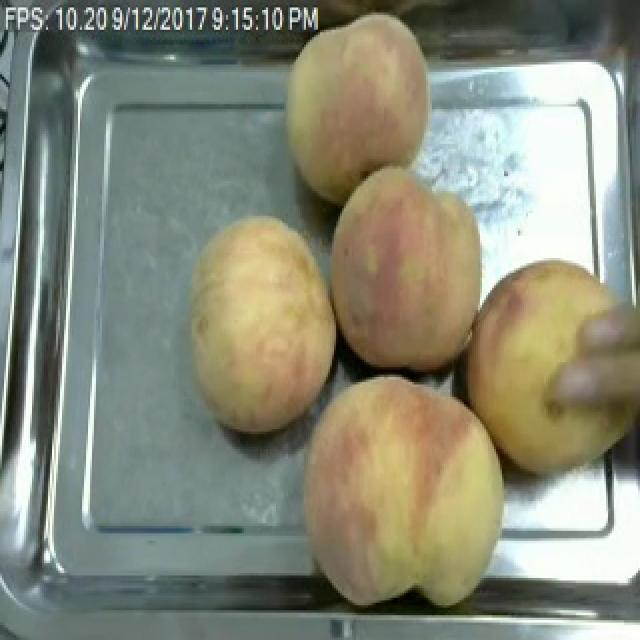Fruit: (286, 357, 524, 615), (444, 246, 640, 484), (180, 208, 348, 442), (324, 159, 494, 384), (274, 5, 442, 216)
